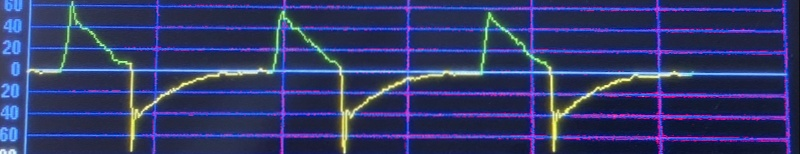normal_flow: (21, 2, 688, 154)
